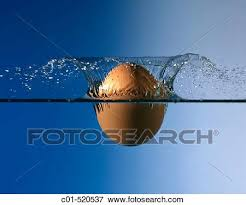egg: (96, 62, 165, 145)
